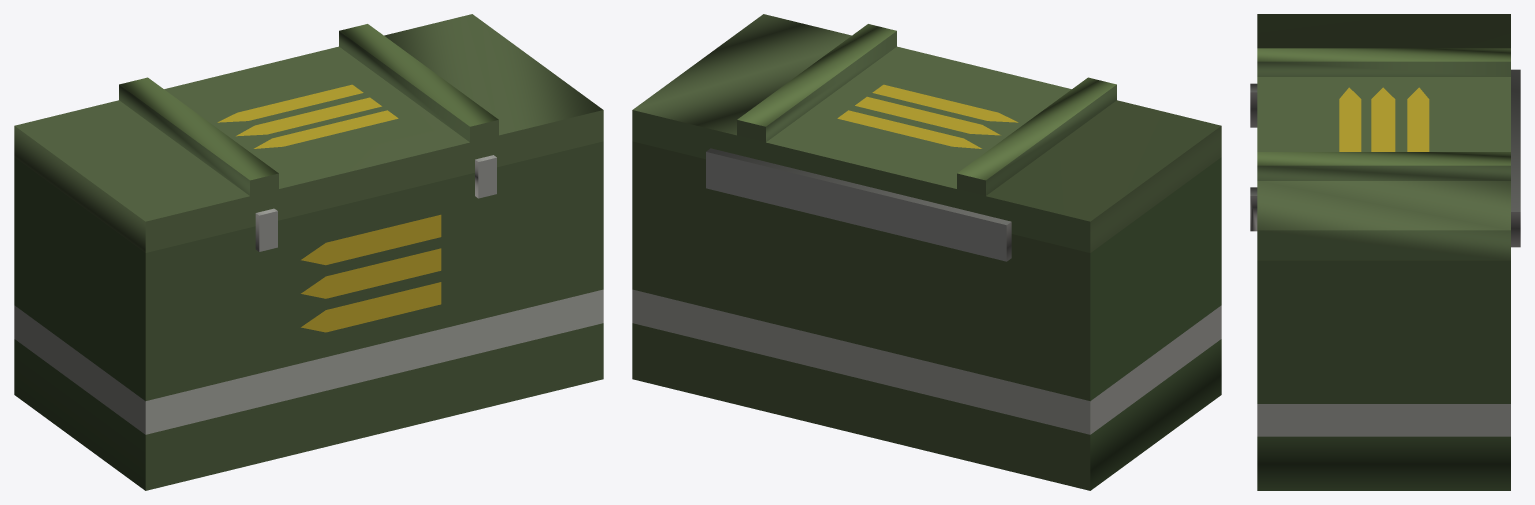
The model's file is apoc_prop_91.glb.
The picture shows the model from 3 angles, left to right: view 1: azimuth 30°, elevation 25°; view 2: azimuth 150°, elevation 25°; view 3: azimuth 270°, elevation 25°; orthographic projection. The views are drawn at different scales.
Visible parts, largest first — view 1: prop_093; view 2: prop_093; view 3: prop_093.
Boxes of the visible parts, x1,y1,x2,y2 form: prop_093: (14,14,603,490); prop_093: (632,14,1221,490); prop_093: (1250,14,1520,490).
Bounding box in the file's own units: 0.3062 × 0.1821 × 0.1616.
1 material, 1 textured.
